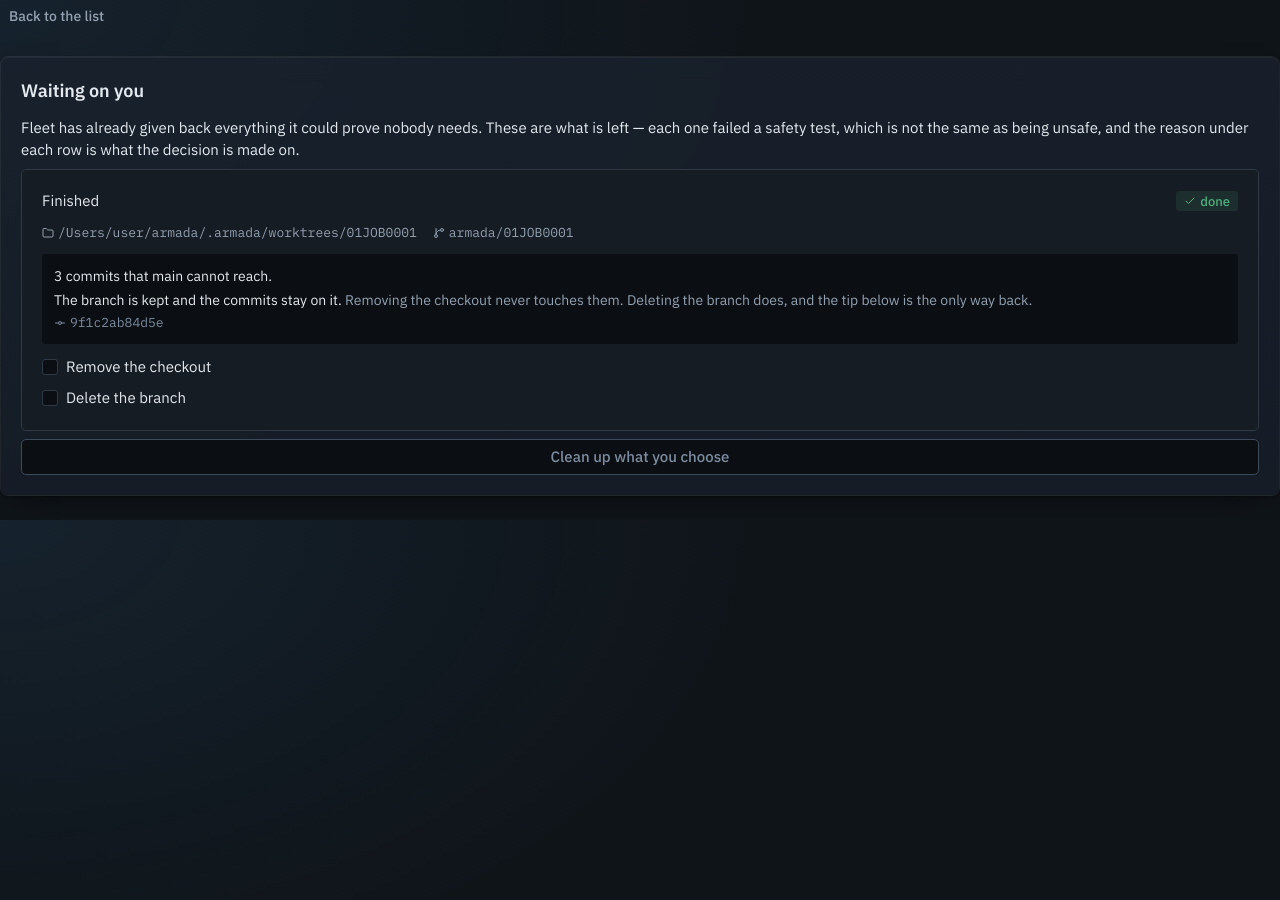
Test: removing a checkout that ends nothing says so
What coordinates should you click on to do the following:
click the checkbox labelled "Remove the checkout"
I would click on:
 (127, 367)
Its box is [42, 356, 211, 378].
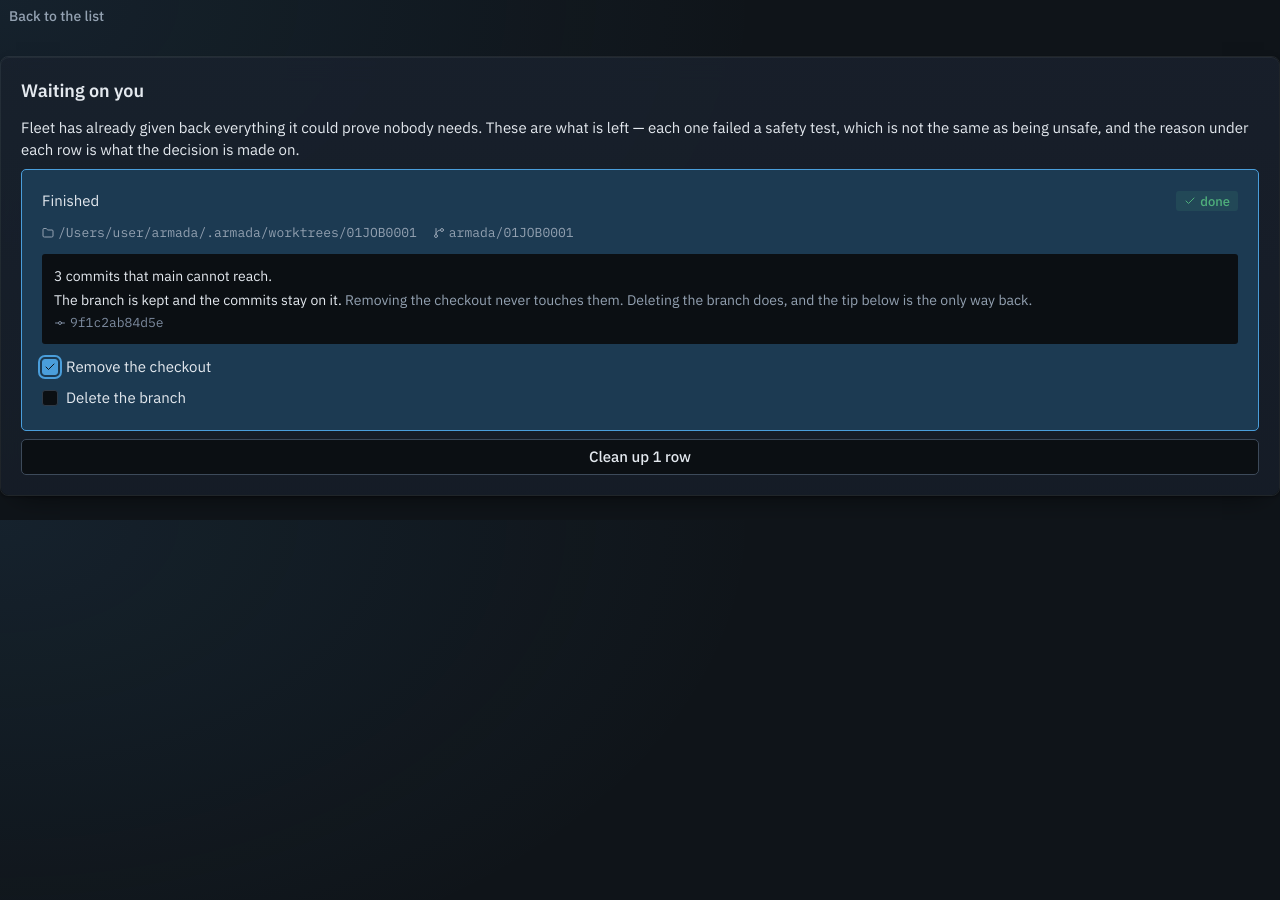
What coordinates should you click on to do the following:
click the button "Clean up 1 row"
I would click on:
 (640, 457)
Its box is [21, 439, 1259, 475].
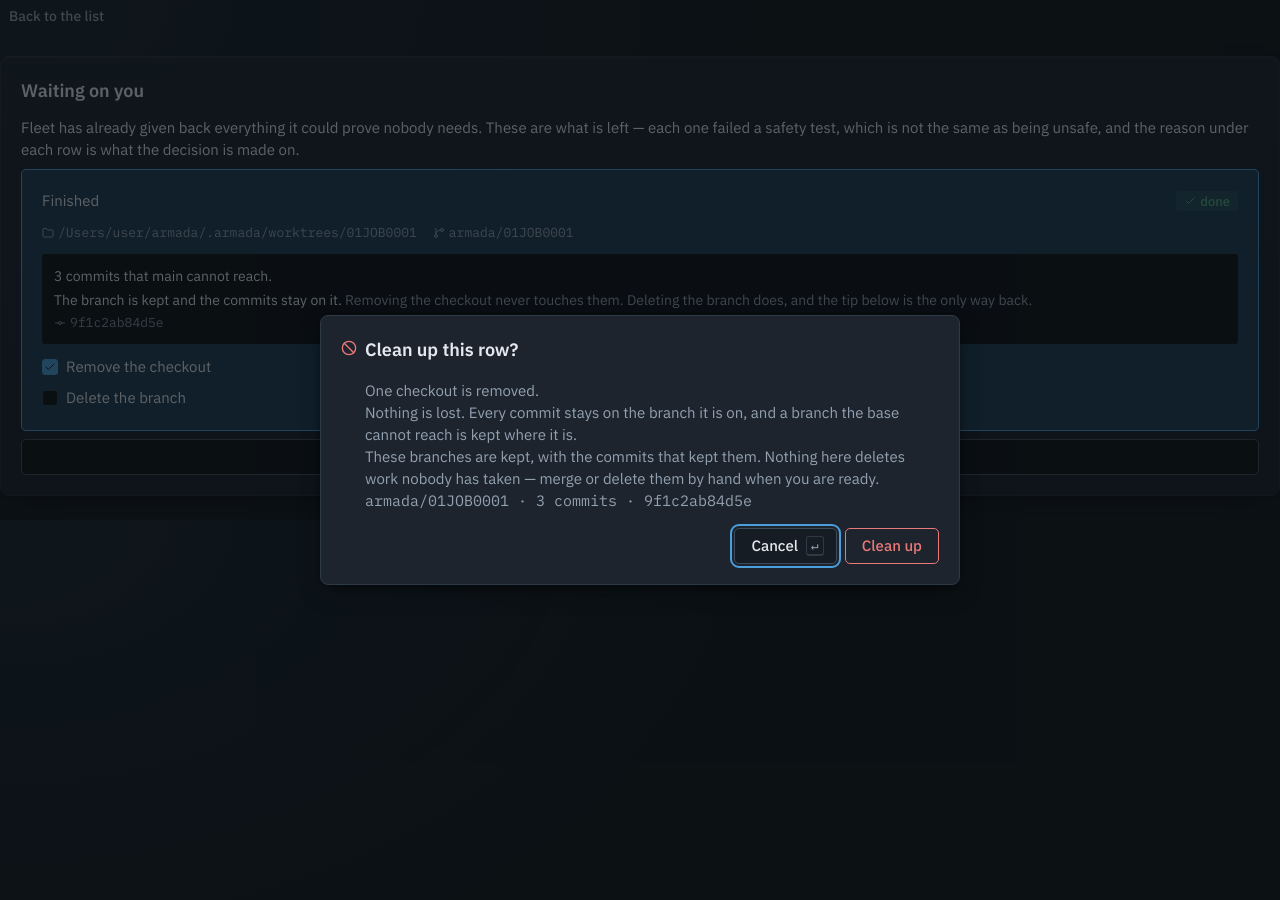
Check: the dialog shows "Nothing is lost.", box [365, 403, 899, 444]
